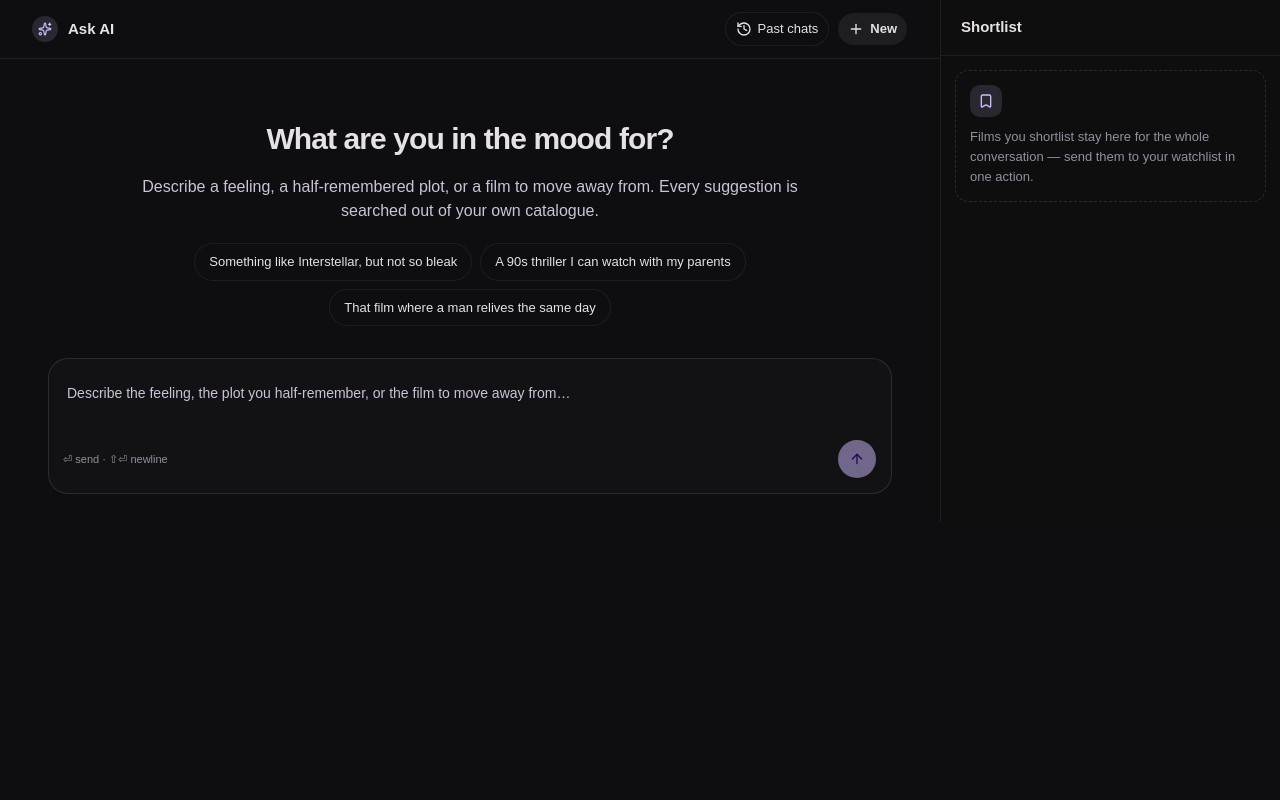
Test case: AskPageContent › surfaces a failed delete instead of leaving the click silent
This screenshot has width=1280, height=800.
Click the button "Past chats" at (777, 29), box [725, 12, 829, 46]
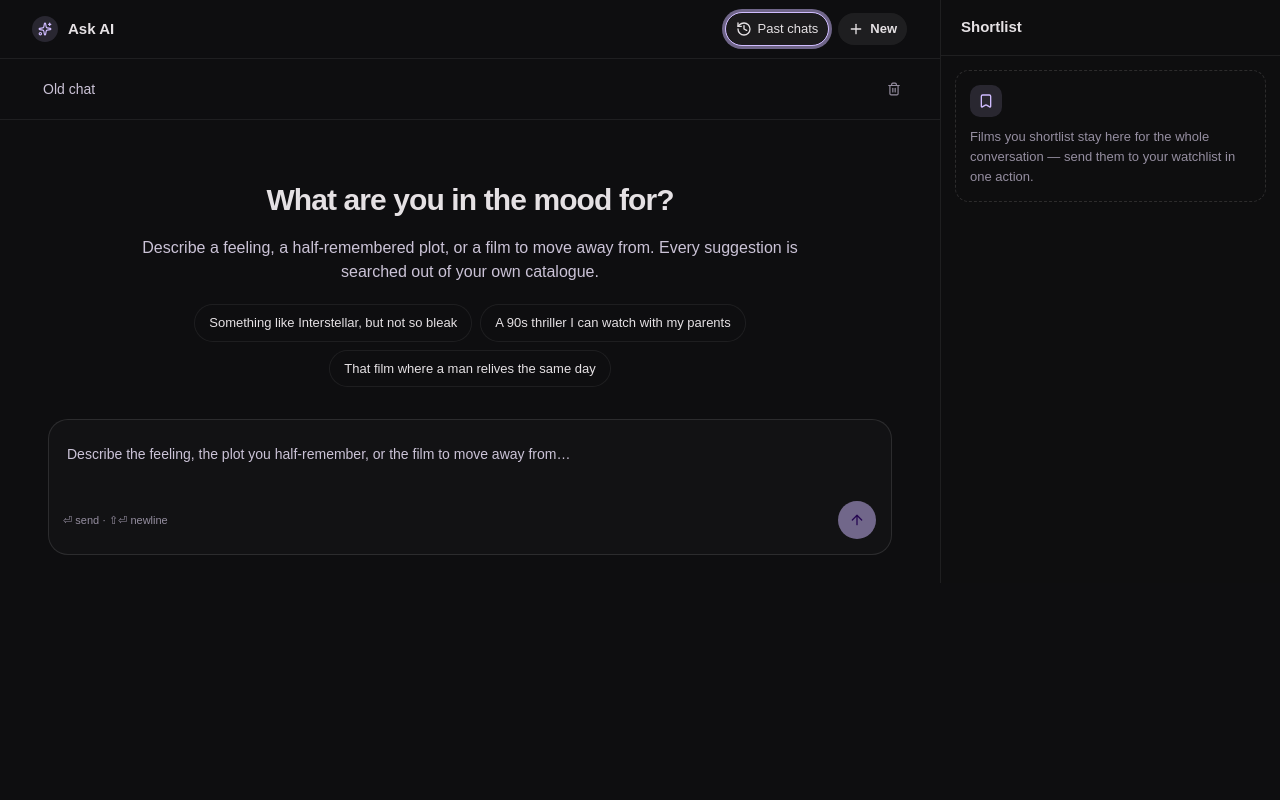
Click the button named "Delete Old chat" at (894, 89), box [880, 75, 908, 103]
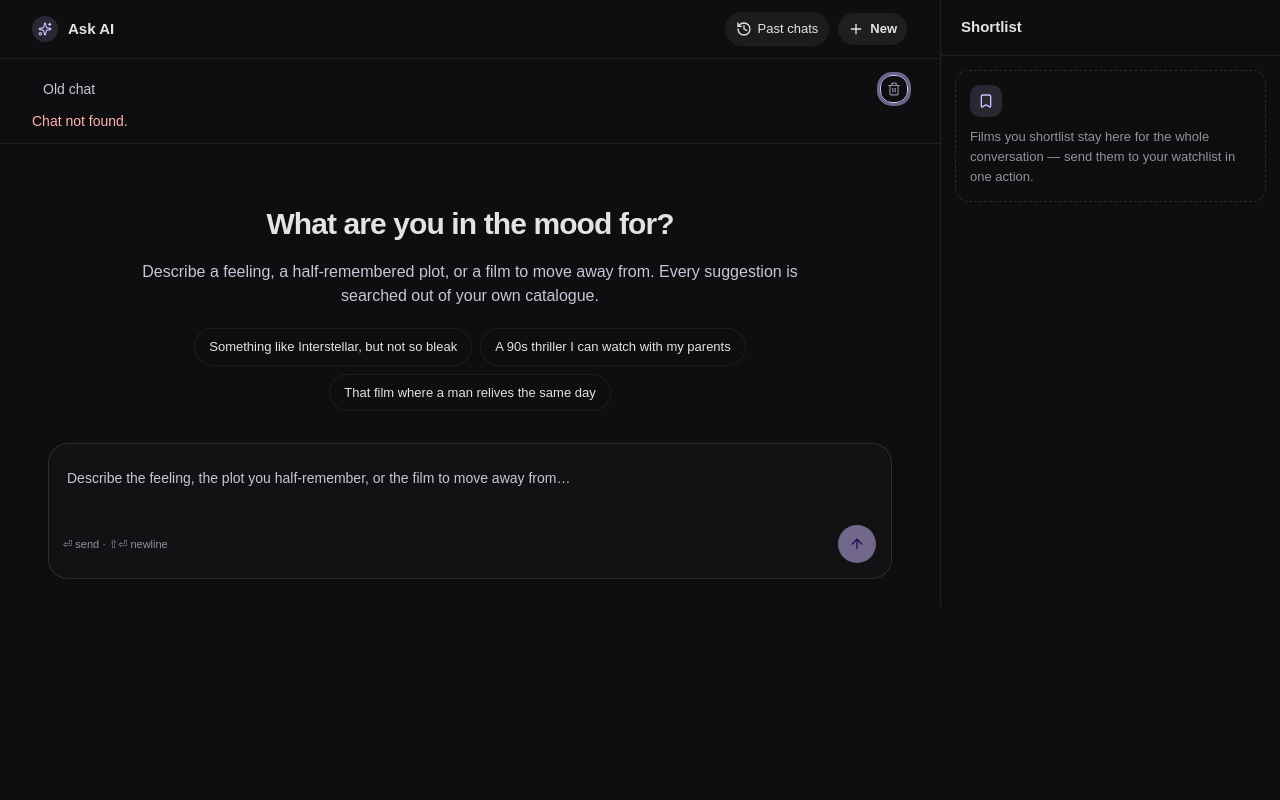
expect the message reads "Chat not found.": met, box [32, 113, 128, 129]
